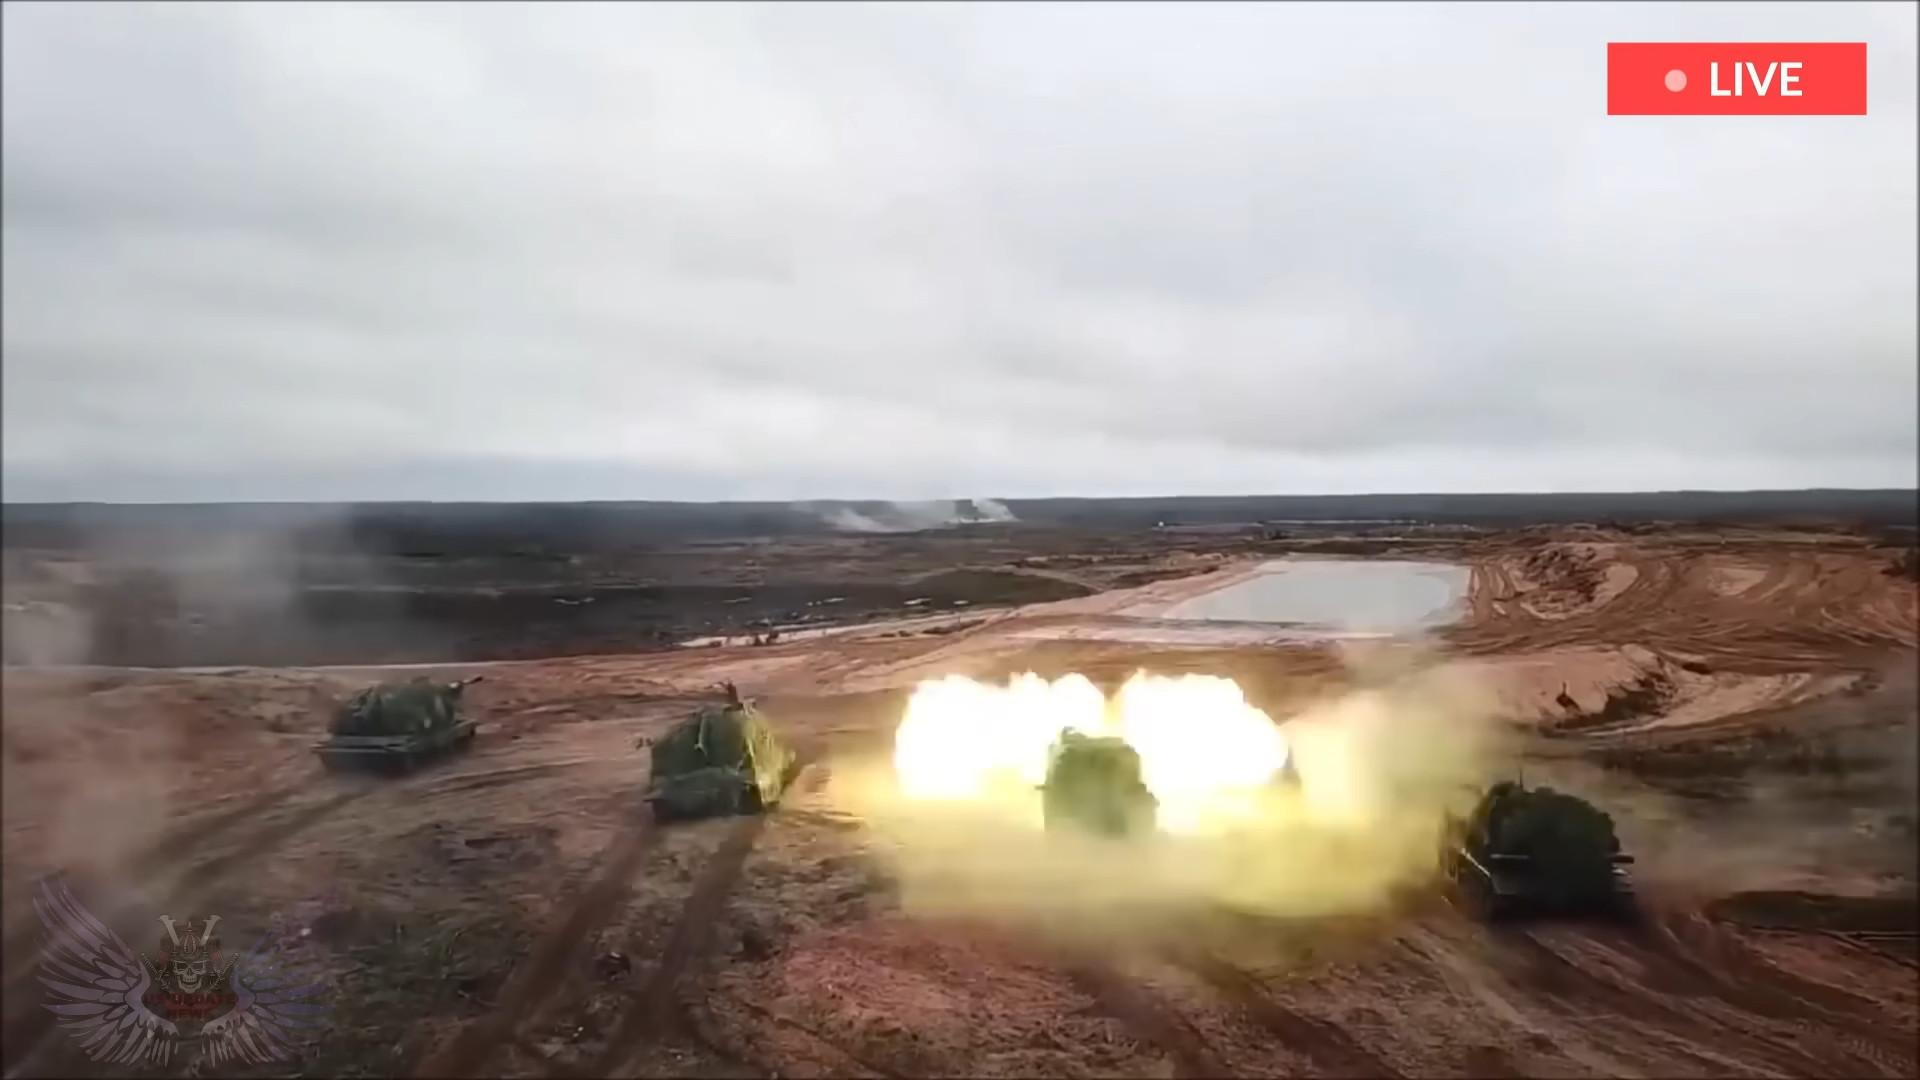tank: (311, 674, 485, 777)
